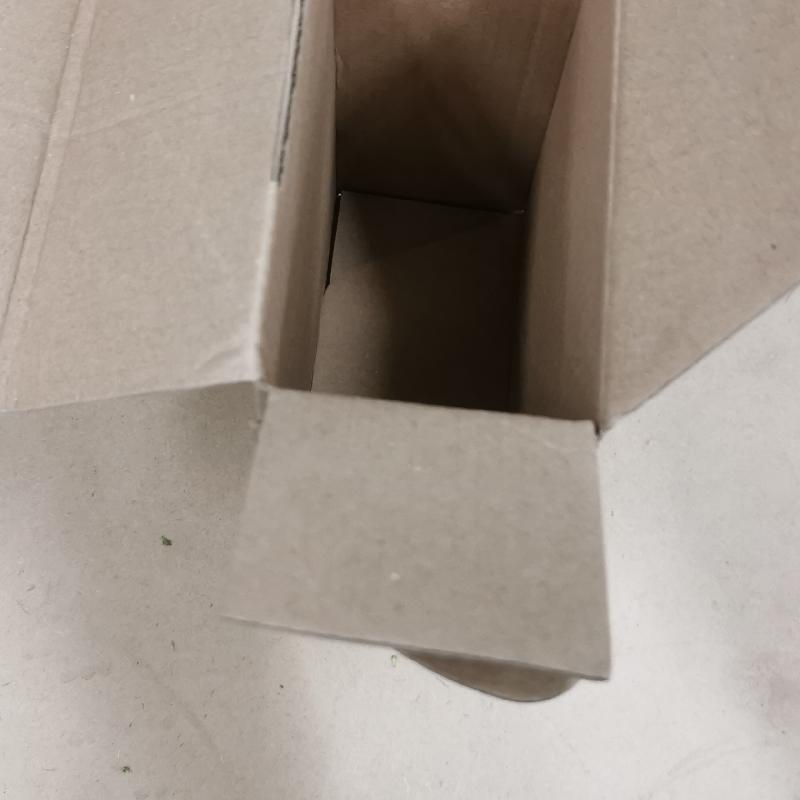boxes: (4, 2, 799, 686)
